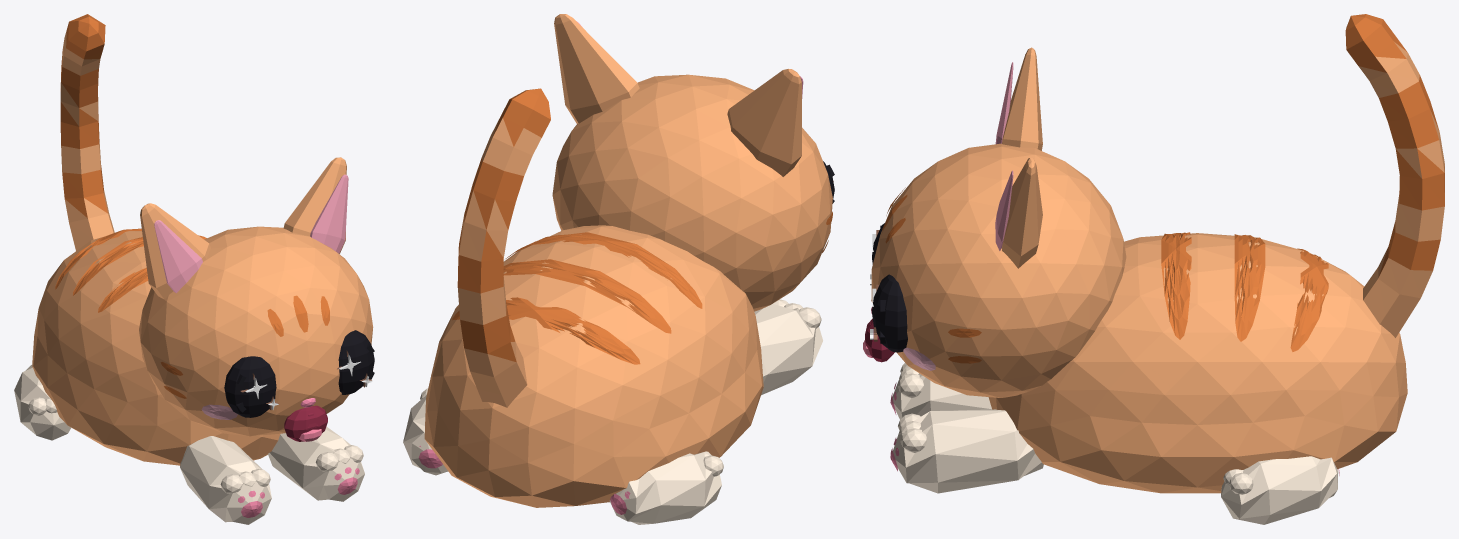
File: Pookie.glb
The picture shows the model from 3 angles, left to right: view 1: azimuth 30°, elevation 25°; view 2: azimuth 150°, elevation 25°; view 3: azimuth 270°, elevation 25°; orthographic projection. The views are drawn at different scales.
Parts seen in each view (by area): view 1: Head, Body, Tail, Paw_R, Paw_L, Eyes_wide, Mouth_wide; view 2: Body, Head, Tail, Paw_R; view 3: Body, Head, Tail, Paw_L, Paw_R, Eyes_wide.
Boxes of the visible parts, box(x1,y1,x2,y2) form: Head: box(139, 157, 373, 436); Body: box(14, 228, 280, 465); Tail: box(60, 14, 114, 250); Paw_R: box(180, 436, 271, 524); Paw_L: box(268, 426, 364, 501); Eyes_wide: box(224, 330, 374, 417); Mouth_wide: box(284, 405, 327, 441); Body: box(403, 225, 763, 524); Head: box(552, 14, 832, 311); Tail: box(457, 88, 550, 407); Paw_R: box(754, 299, 822, 395); Body: box(988, 232, 1407, 524); Head: box(871, 47, 1126, 397); Tail: box(1345, 14, 1444, 337); Paw_L: box(890, 409, 1043, 493); Paw_R: box(890, 363, 991, 419); Eyes_wide: box(870, 223, 907, 352).
Size of the model in its own units: 0.6004 by 0.8341 by 1.01.
